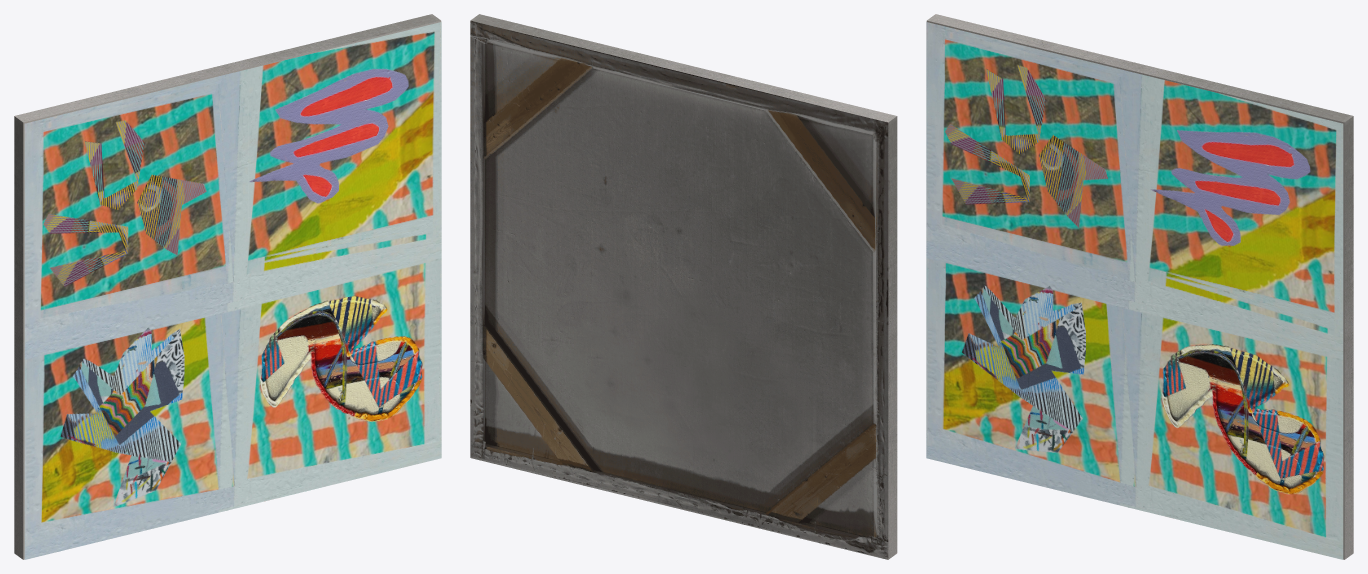
Rendered from winwin-96743797.glb.
3 views of the same model, side by side, from view 1: azimuth 30°, elevation 25°; view 2: azimuth 150°, elevation 25°; view 3: azimuth 330°, elevation 25° (orthographic).
Visible parts, largest first — view 1: Canvas, stretcher; view 2: stretcher; view 3: Canvas, stretcher.
Part boxes in pixels (bbox=[...]): Canvas: bbox=[24, 22, 441, 559]; stretcher: bbox=[14, 14, 441, 559]; stretcher: bbox=[470, 14, 897, 559]; Canvas: bbox=[926, 22, 1343, 559]; stretcher: bbox=[926, 14, 1353, 559].
Bounding box in the file's own units: 3.04 × 3.04 × 0.1252.
3 materials, 3 textured.
